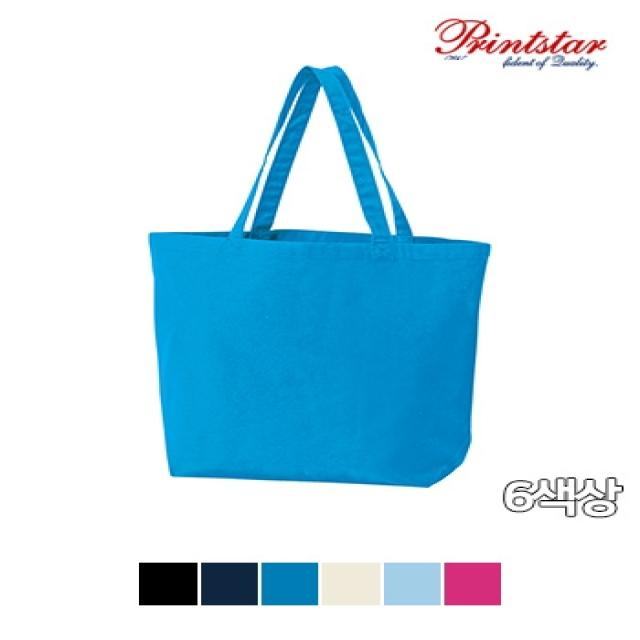ecobag: (112, 59, 518, 499)
